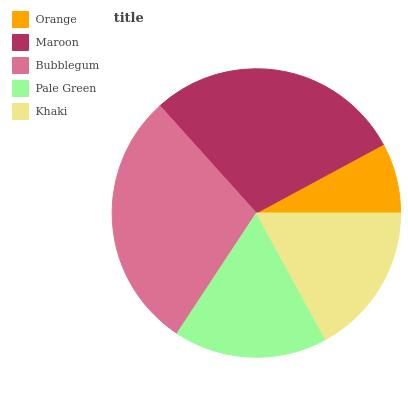legend: (1, 0, 104, 129)
sector: (112, 106, 256, 332), (161, 67, 383, 212), (174, 212, 325, 358), (254, 212, 401, 341), (256, 146, 402, 213)
